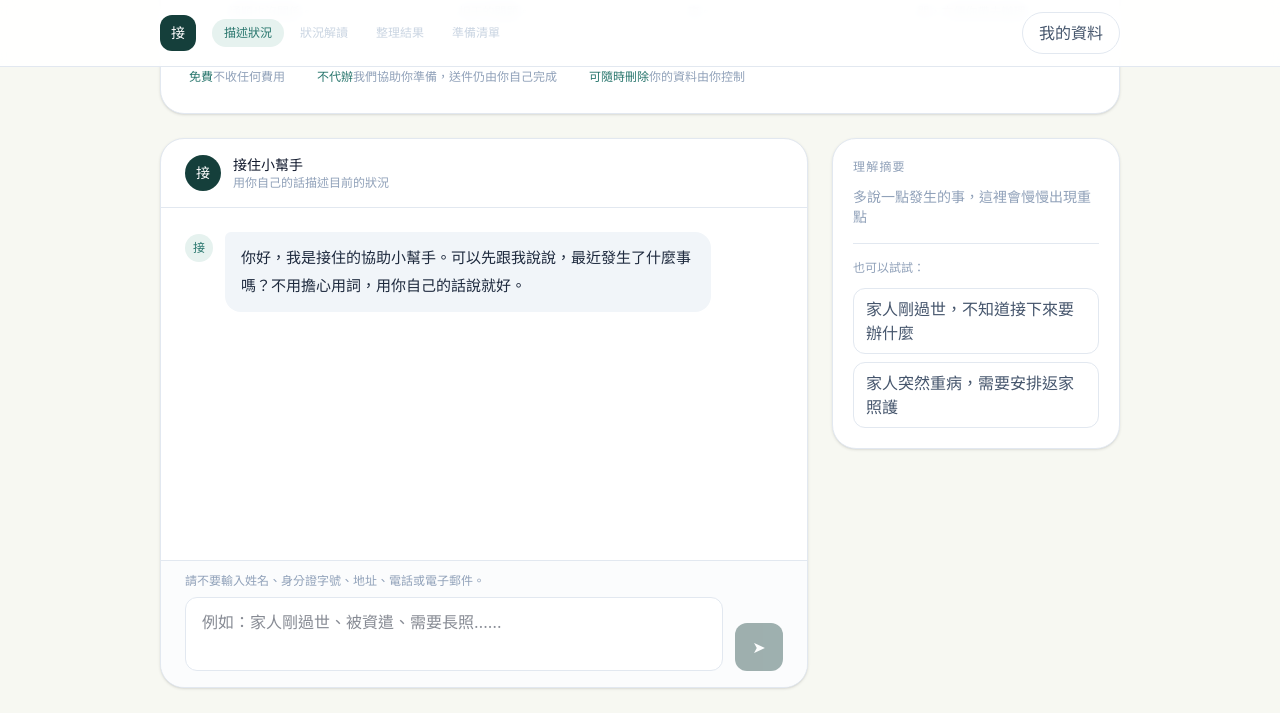
Scenario: NavigatorFlow › lets the user revise before confirming, extending the conversation
(page scrolled)
Type "家裡最近生活很困難，錢快不夠用了" into the text box named "輸入訊息" at (454, 634), box [185, 597, 723, 671]
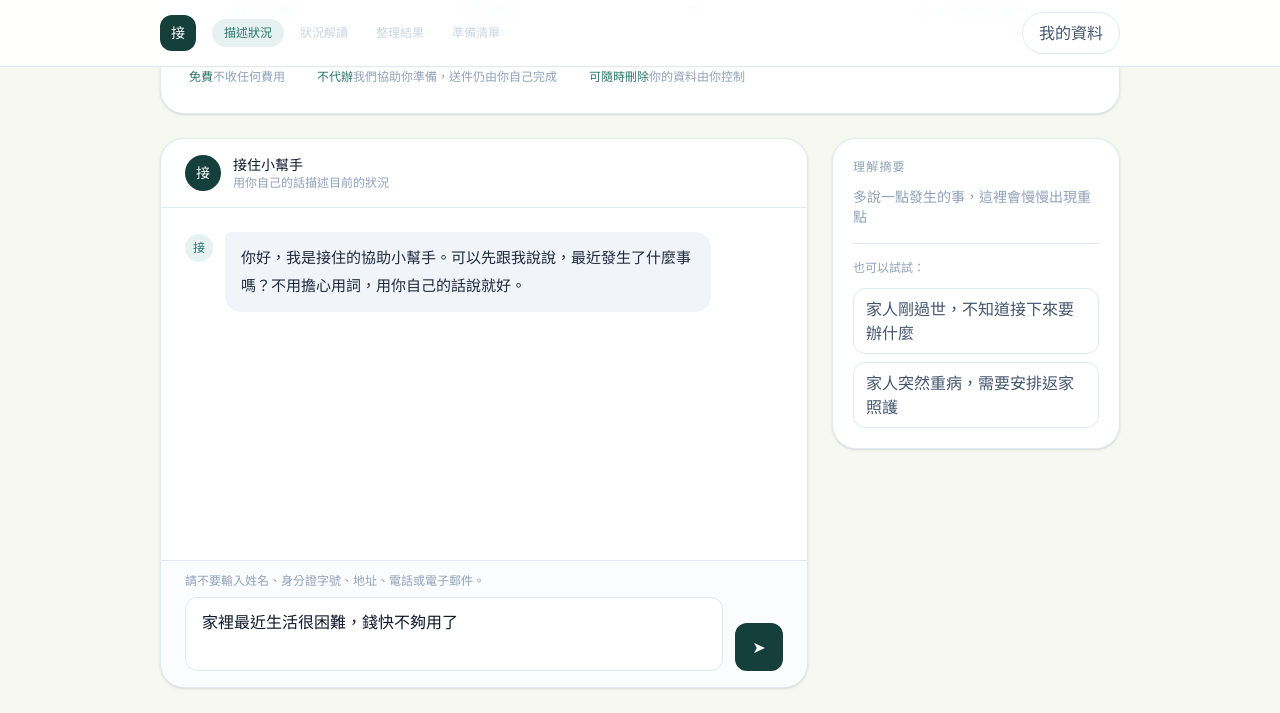
Click the button named "送出" at (759, 647), box [735, 623, 783, 671]
(page scrolled)
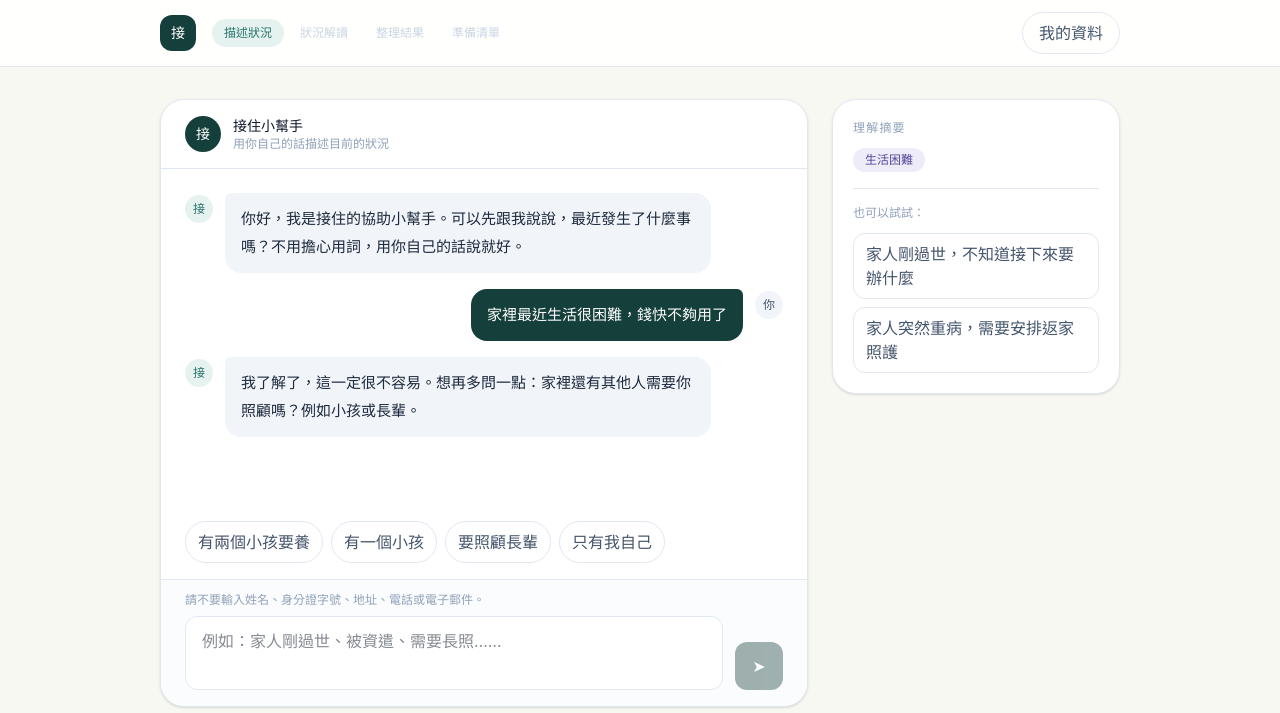
Check: the text "生活困難" is shown, box [853, 148, 925, 172]
Click the button "只有我自己" at (612, 542), box [559, 521, 665, 563]
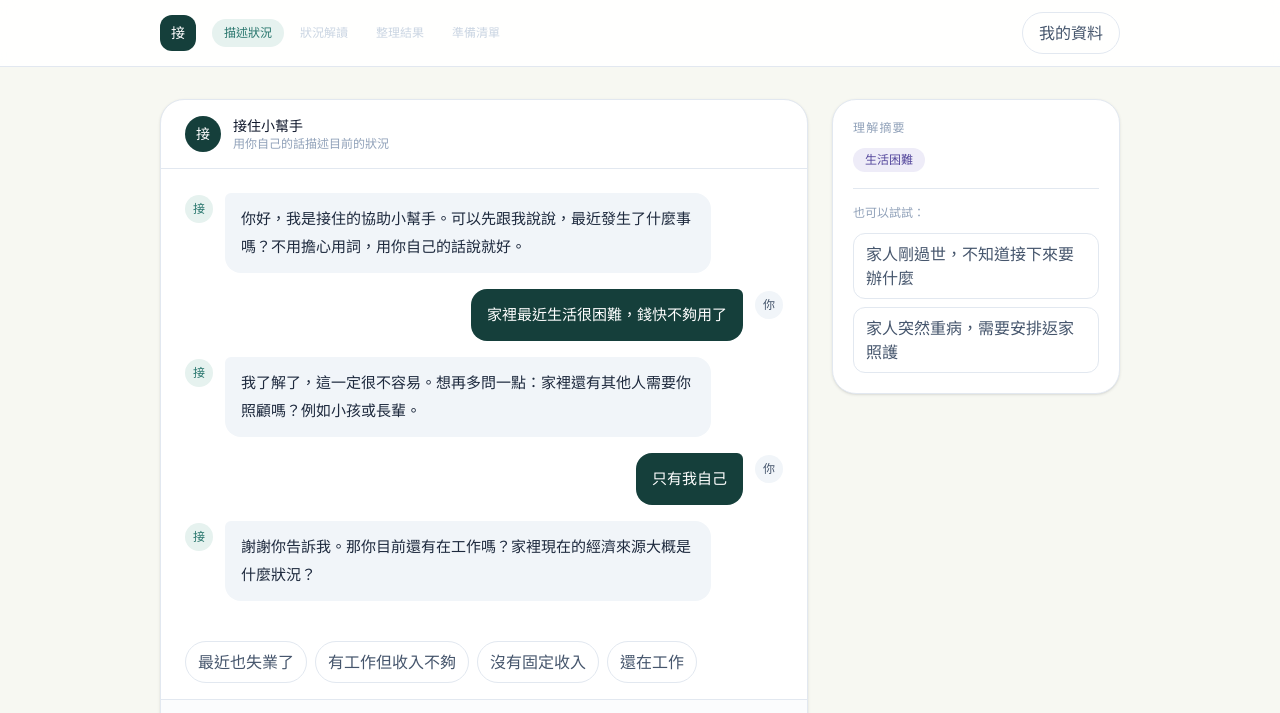
Click the button "還在工作" at (652, 662), box [607, 641, 697, 683]
(page scrolled)
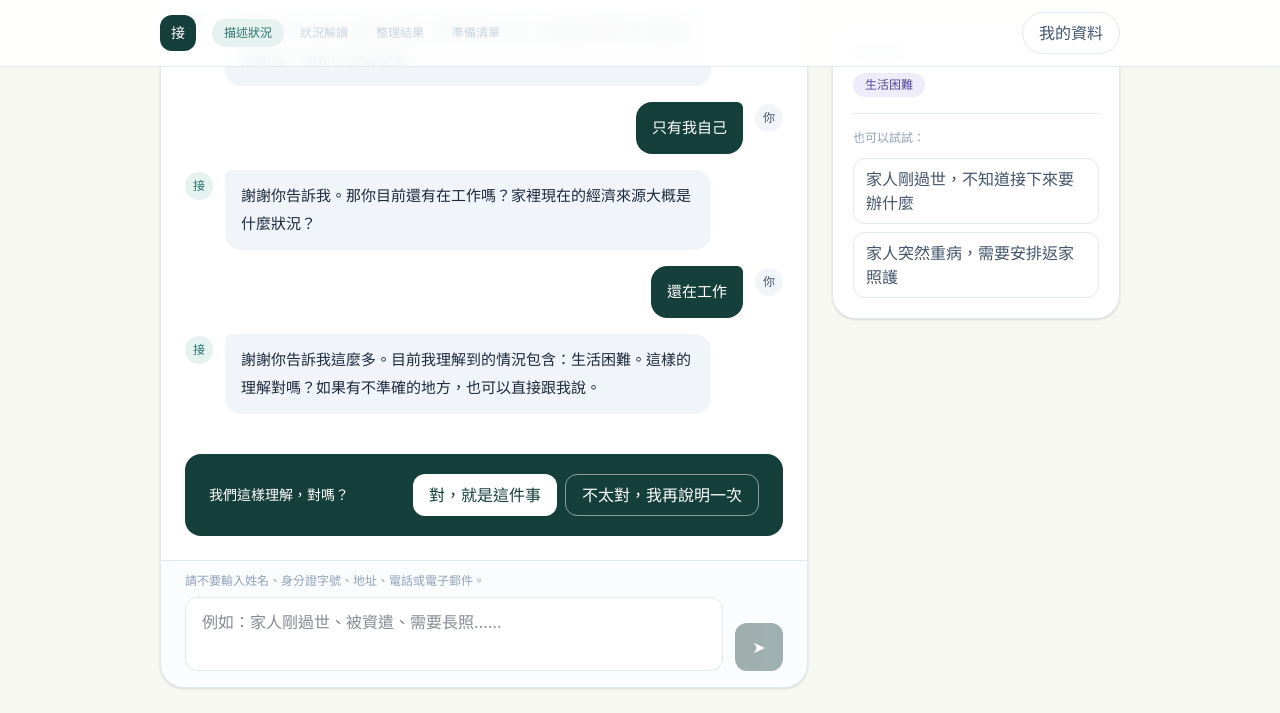
Click the button "不太對，我再說明一次" at (662, 495), box [565, 474, 759, 516]
(page scrolled)
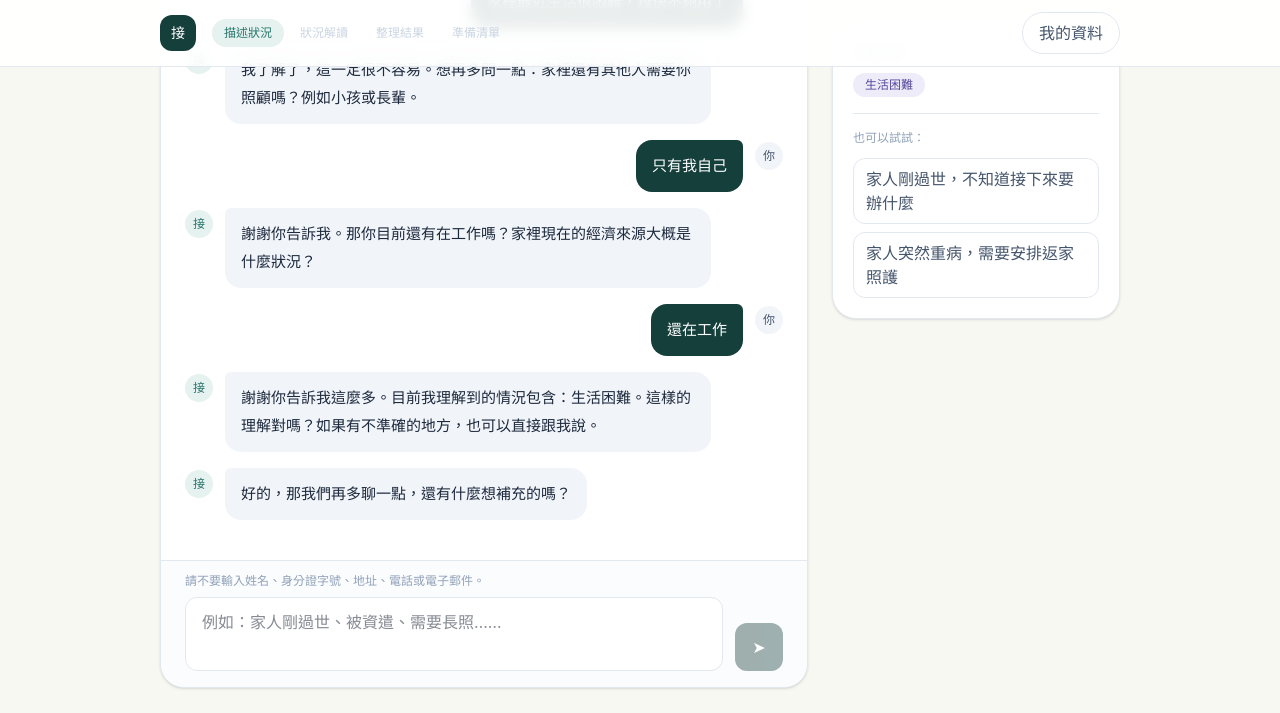
Check: the text box named "輸入訊息" is shown, box [185, 597, 723, 671]
Check: the text "好的，那我們再多聊一點，還有什麼想補充的嗎？" is shown, box [225, 468, 587, 520]
